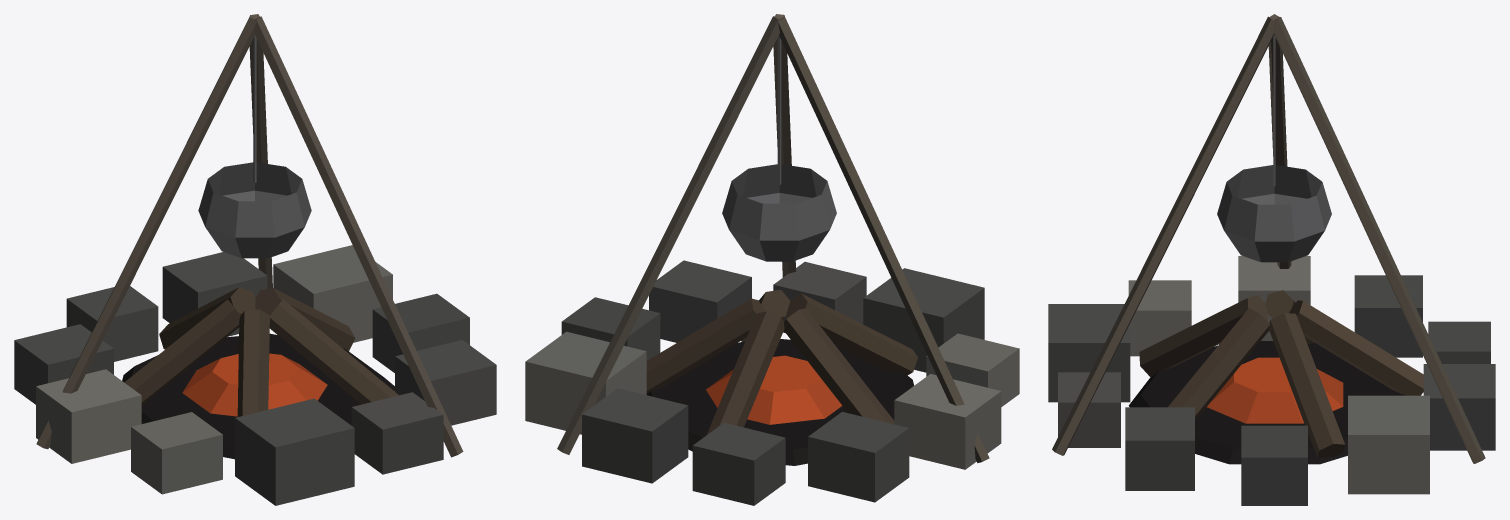
File: walk_prop_firepit.glb
The picture shows the model from 3 angles, left to right: view 1: azimuth 30°, elevation 25°; view 2: azimuth 150°, elevation 25°; view 3: azimuth 270°, elevation 25°; orthographic projection.
Parts seen in each view (by area): view 1: walk_prop_firepit; view 2: walk_prop_firepit; view 3: walk_prop_firepit.
Boxes of the visible parts, <box> form: walk_prop_firepit: <box>14,14,496,505</box>; walk_prop_firepit: <box>525,14,1019,505</box>; walk_prop_firepit: <box>1048,14,1495,505</box>.
Size of what is drawn, in the model's own units: 1.98 by 1.78 by 1.84.
2 materials, 2 textured.
